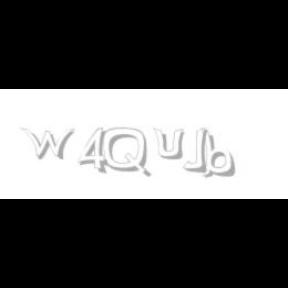4: (78, 128, 109, 174)
J: (182, 128, 208, 172)
Q: (103, 128, 149, 178)
b: (200, 128, 238, 178)
u: (154, 128, 188, 160)
w: (20, 128, 79, 160)
